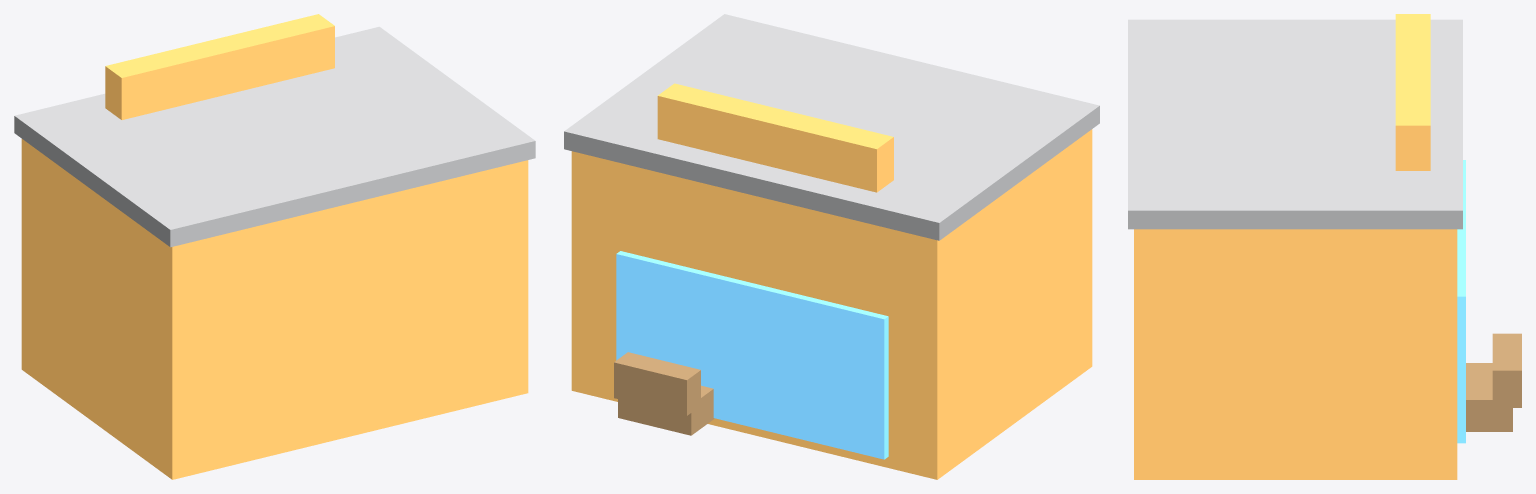
Rendered from furniture.glb.
The picture shows the model from 3 angles, left to right: view 1: azimuth 30°, elevation 25°; view 2: azimuth 150°, elevation 25°; view 3: azimuth 270°, elevation 25°; orthographic projection. The views are drawn at different scales.
Parts seen in each view (by area): view 1: furniture; view 2: furniture; view 3: furniture.
Boxes of the visible parts, box(x1,y1,x2,y2) form: furniture: box(14, 14, 535, 479); furniture: box(564, 14, 1099, 479); furniture: box(1128, 14, 1521, 479).
Size of the model in its own units: 1.54 by 1.19 by 1.34.
